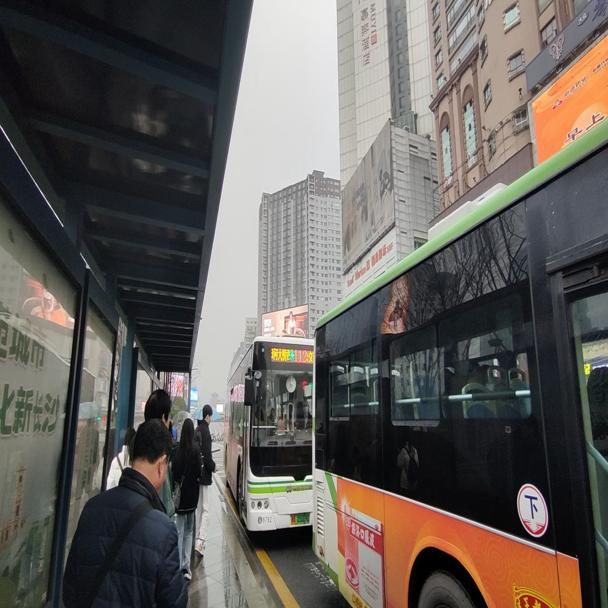bus: (311, 113, 607, 606), (222, 336, 311, 533)
screen: (294, 347, 306, 363)
